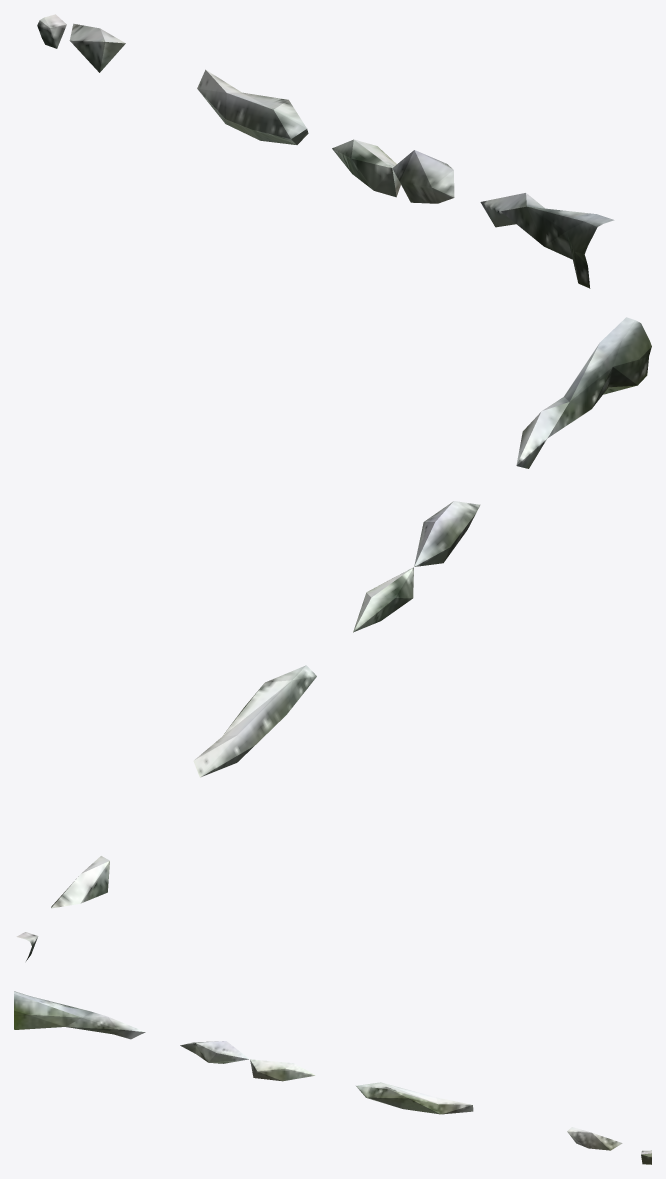
3 renders of one model, top to bottom at view 1: azimuth 30°, elevation 25°; view 2: azimuth 150°, elevation 25°; view 3: azimuth 270°, elevation 25°, orthographic. The views are drawn at different scales.
Bounding box in the file's own units: 0.2982 × 0.7867 × 2.95.
1 material, 1 textured.
